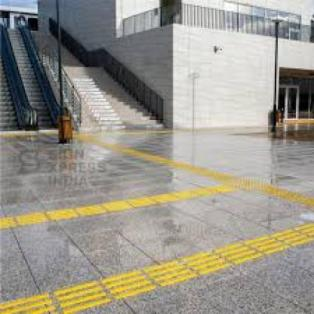Podoctatil: (0, 124, 314, 314)
